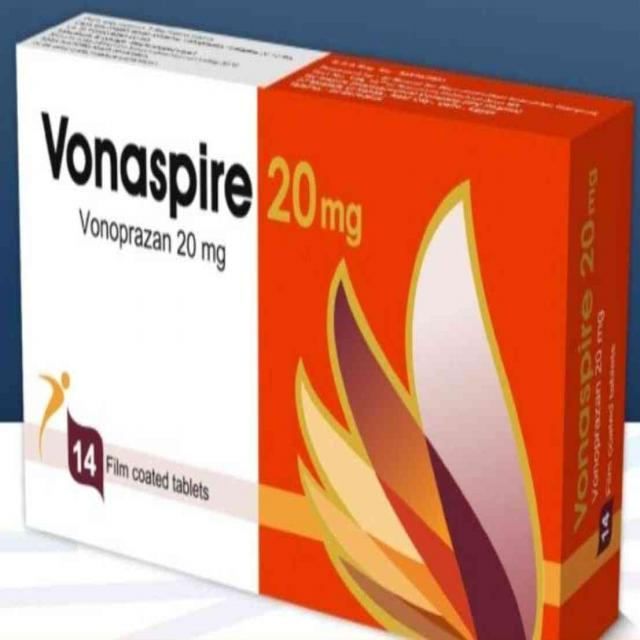drug-name: (37, 110, 252, 237)
